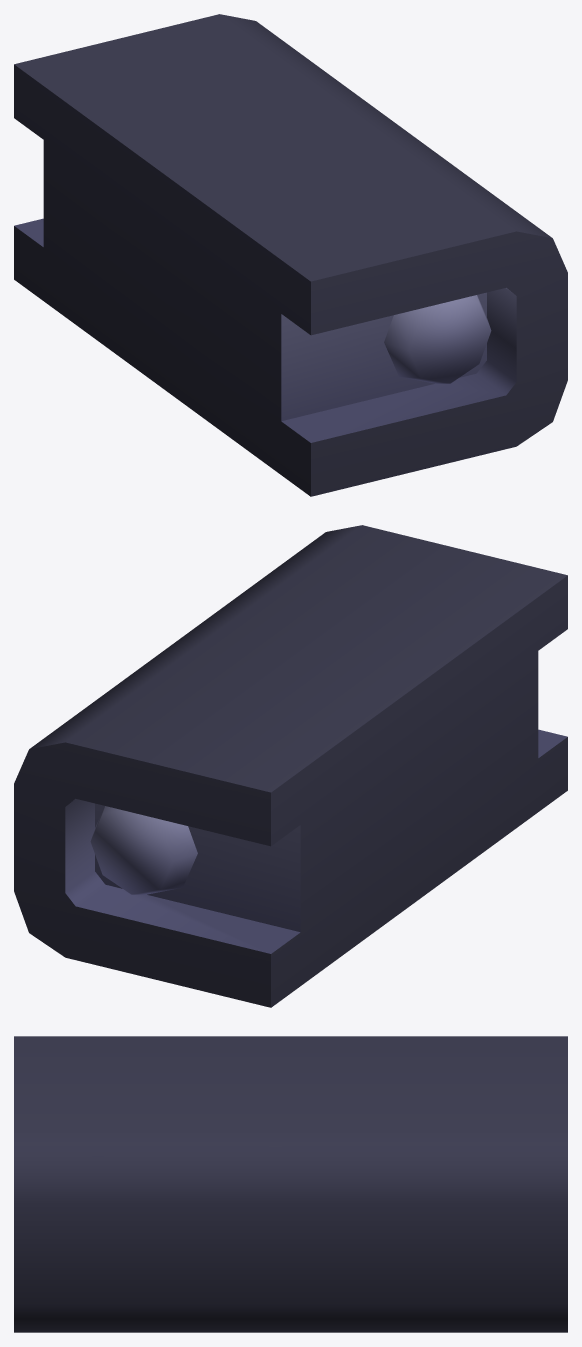
Rendered from conveyor-long-part-end.glb.
3 views of the same model, one above another, from view 1: azimuth 30°, elevation 25°; view 2: azimuth 150°, elevation 25°; view 3: azimuth 270°, elevation 25° (orthographic). The views are drawn at different scales.
Visible parts, largest first — view 1: conveyor-long-part-end; view 2: conveyor-long-part-end; view 3: conveyor-long-part-end.
Part boxes in pixels (x1,y1,x2,y2): conveyor-long-part-end: [14, 14, 567, 496]; conveyor-long-part-end: [14, 525, 567, 1007]; conveyor-long-part-end: [14, 1036, 567, 1332].
Bounding box in the file's own units: 0.5 × 0.4 × 1.
